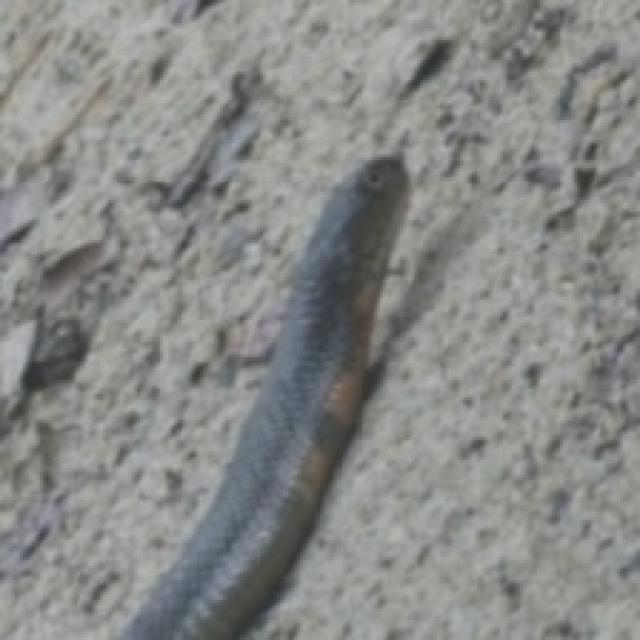king cobra: (120, 154, 406, 637), (123, 154, 406, 637)
